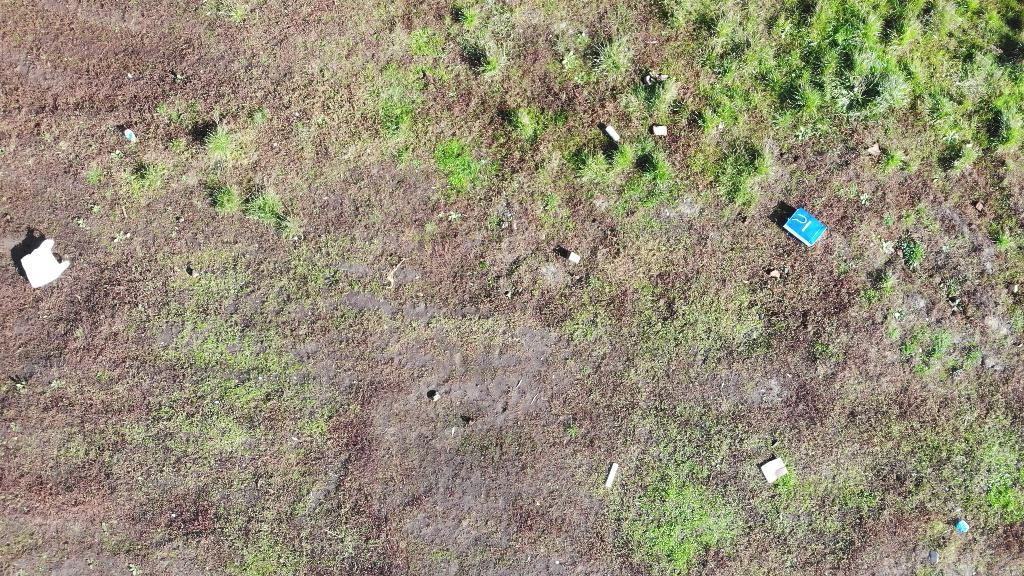garbage: (14, 232, 75, 293), (779, 198, 832, 251), (19, 238, 72, 290), (782, 204, 829, 249), (757, 451, 791, 487), (758, 455, 790, 484), (603, 462, 619, 489), (602, 123, 622, 142), (648, 122, 670, 139), (565, 247, 583, 266), (121, 128, 139, 144), (953, 518, 971, 534), (123, 127, 139, 145), (565, 249, 583, 263), (651, 124, 668, 137)
